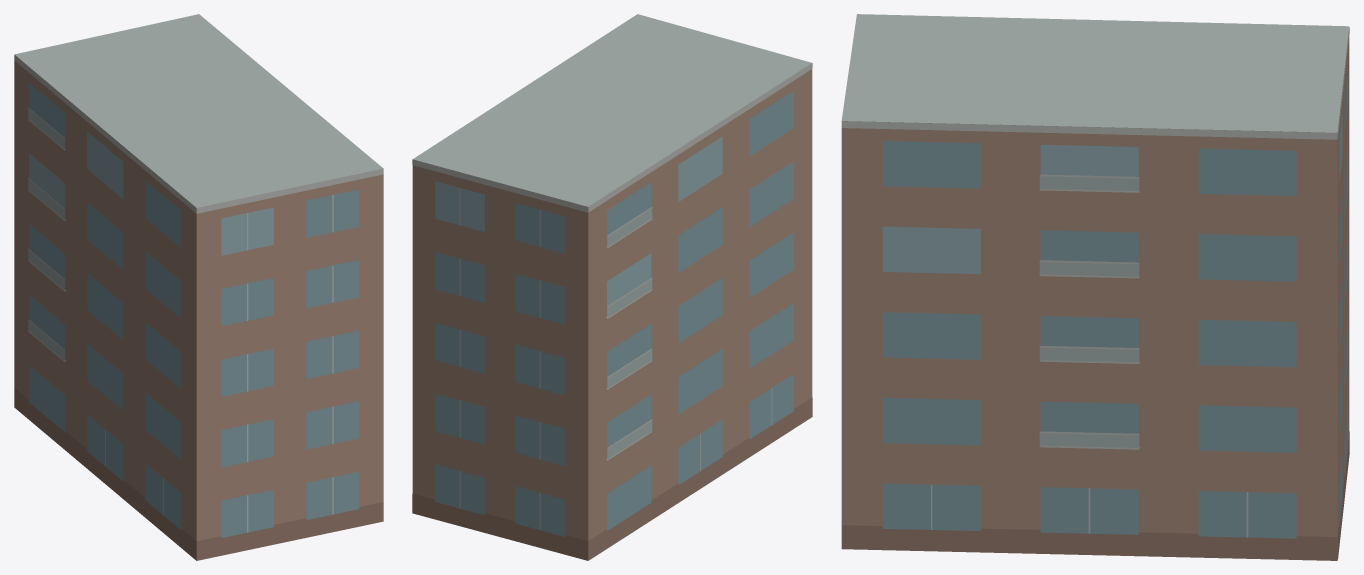
File: survey-upis-32854830.glb
The picture shows the model from 3 angles, left to right: view 1: azimuth 30°, elevation 25°; view 2: azimuth 150°, elevation 25°; view 3: azimuth 270°, elevation 25°; orthographic projection. The views are drawn at different scales.
Parts seen in each view (by area): view 1: survey-upis-32854830.tmp; view 2: survey-upis-32854830.tmp; view 3: survey-upis-32854830.tmp.
Boxes of the visible parts, x1,y1,x2,y2 form: survey-upis-32854830.tmp: (14, 14, 383, 560); survey-upis-32854830.tmp: (412, 14, 812, 560); survey-upis-32854830.tmp: (841, 14, 1349, 560).
Bounding box in the file's own units: 8.84 × 14.85 × 15.98.
